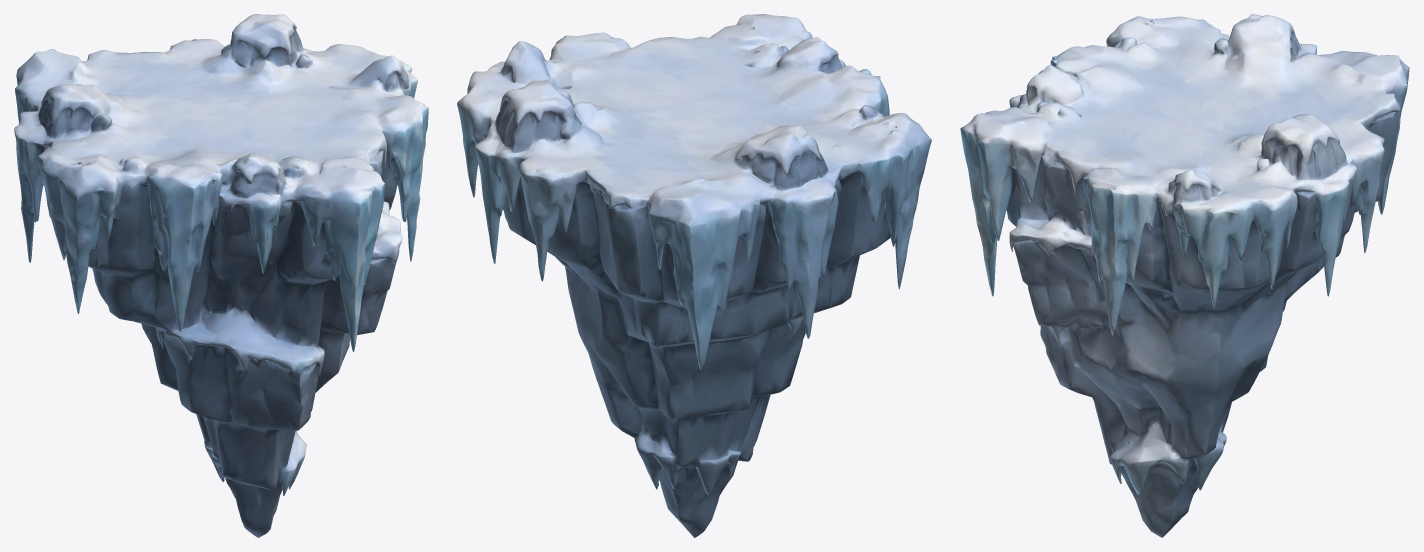
Rendered from R2_Island_SteppingStone.fbx.
3 renders of one model, left to right at view 1: azimuth 30°, elevation 25°; view 2: azimuth 150°, elevation 25°; view 3: azimuth 270°, elevation 25°, orthographic. The views are drawn at different scales.
Visible parts, largest first — view 1: R2_Island_SteppingStone; view 2: R2_Island_SteppingStone; view 3: R2_Island_SteppingStone.
Boxes of the visible parts, x1,y1,x2,y2 form: R2_Island_SteppingStone: [14, 14, 428, 537]; R2_Island_SteppingStone: [457, 14, 931, 537]; R2_Island_SteppingStone: [960, 14, 1409, 537].
Bounding box in the file's own units: 340 × 380 × 340.
Materials: 1 (1 with a texture image).
